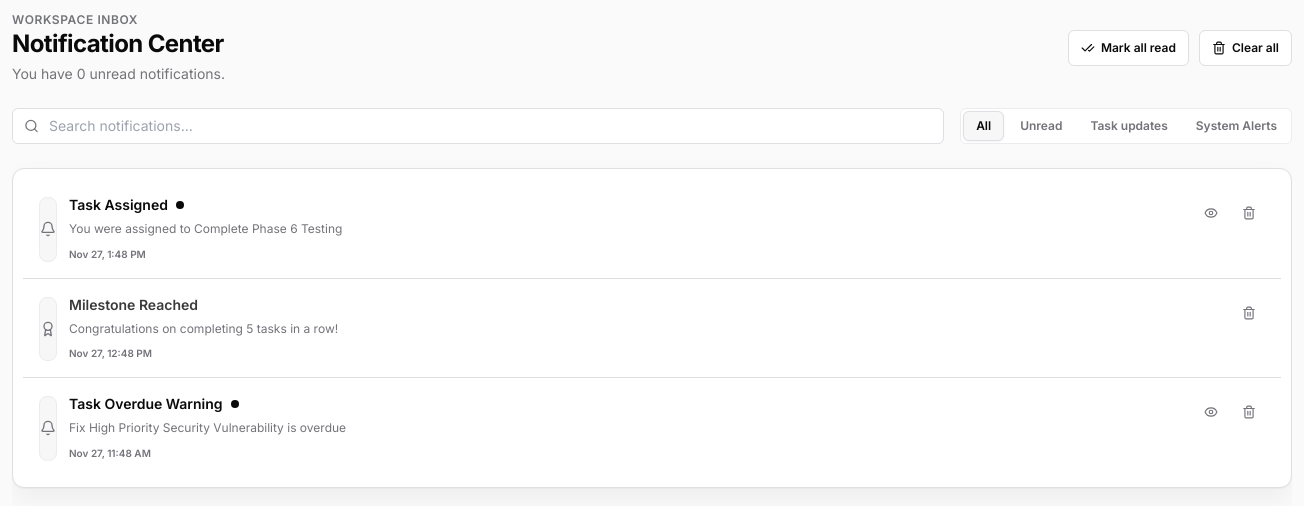
Test: Notifications Component Testing › dismisses all notifications when Clear all is clicked
What coordinates should you click on to do the following:
click the button "Clear all"
I would click on:
 (1246, 48)
Its box is [1199,30,1292,66].
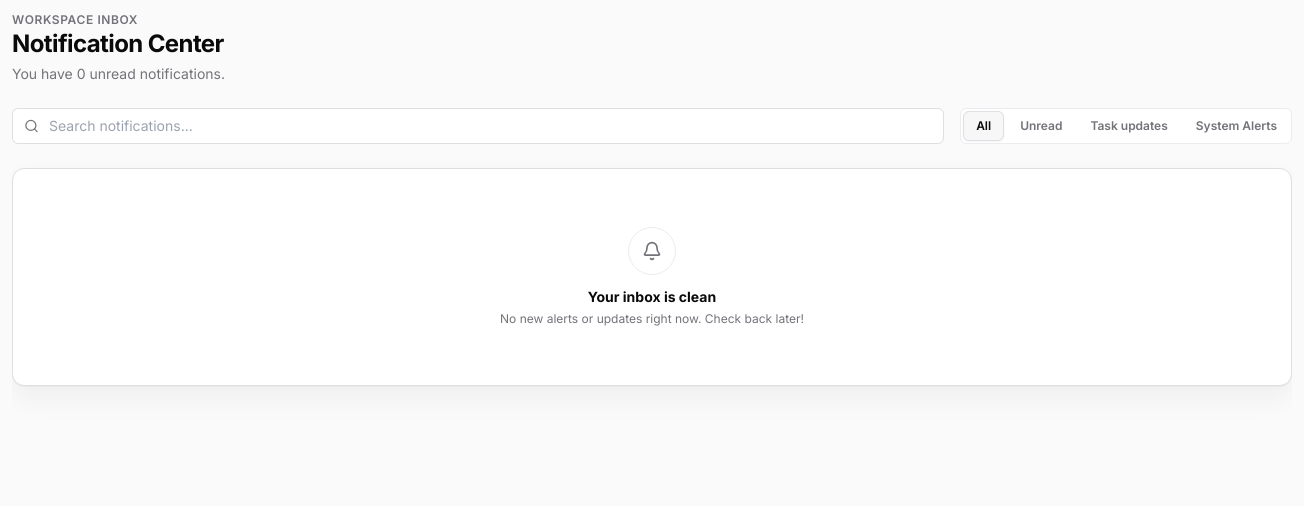
Check: the heading "Your inbox is clean" is shown, box [588,288,716,305]
